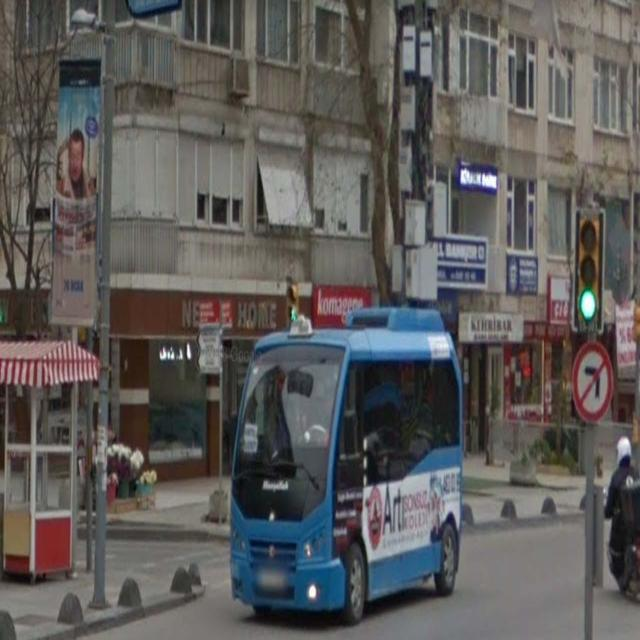soladonulmez: (572, 342, 614, 425)
yesil: (572, 209, 603, 332)
